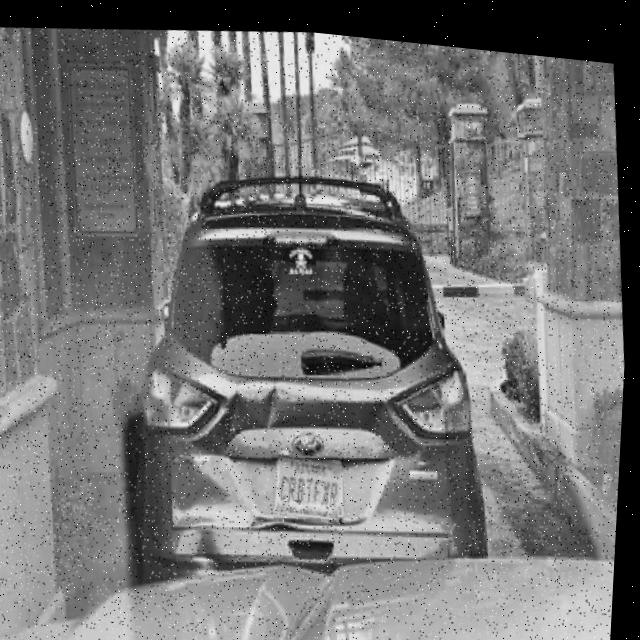LicensePlate: (279, 448, 348, 513)
